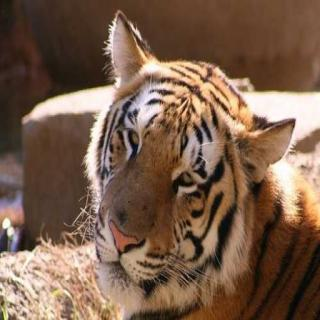Tiger: (74, 0, 320, 320)
